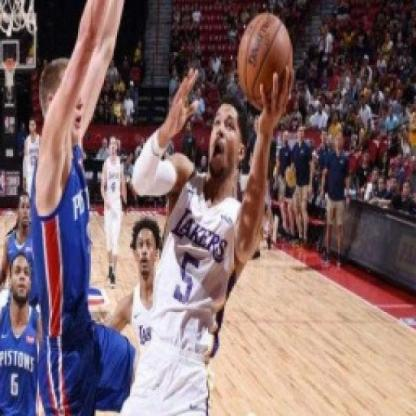basketball: (238, 14, 294, 102)
